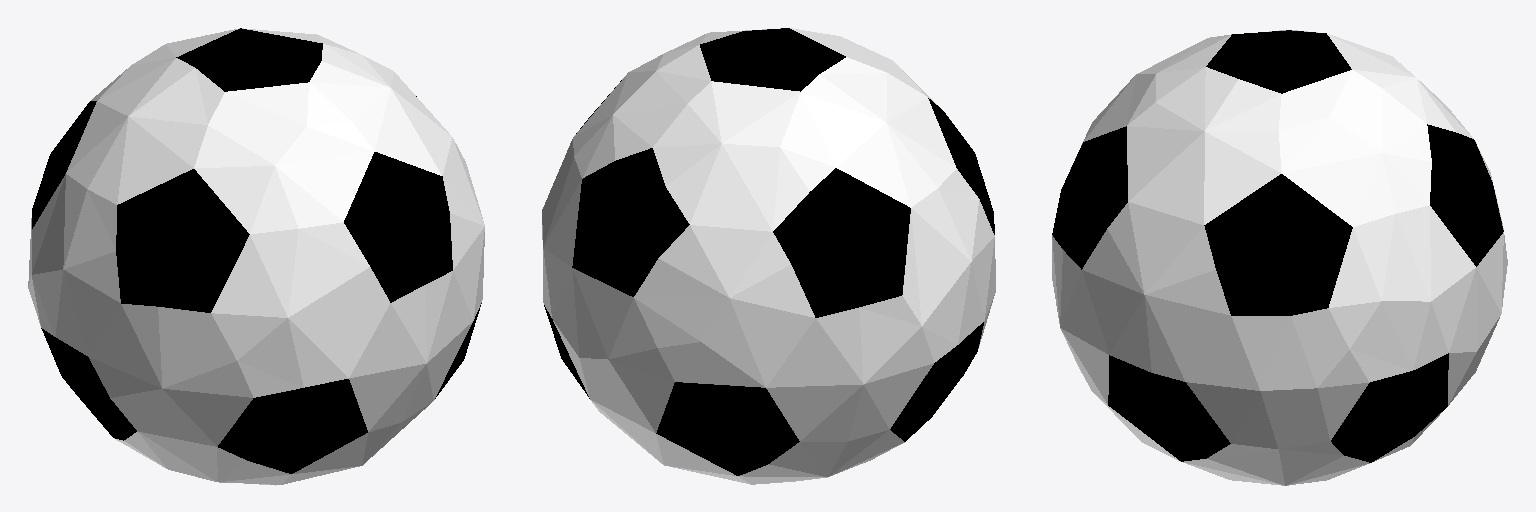
The model's file is Football.obj.
3 renders of one model, left to right at view 1: azimuth 30°, elevation 25°; view 2: azimuth 150°, elevation 25°; view 3: azimuth 270°, elevation 25°, orthographic.
Parts seen in each view (by area): view 1: Icosphere_Icosphere.001; view 2: Icosphere_Icosphere.001; view 3: Icosphere_Icosphere.001.
Boxes of the visible parts, box(x1,y1,x2,y2) form: Icosphere_Icosphere.001: box(28, 28, 484, 485); Icosphere_Icosphere.001: box(542, 28, 995, 484); Icosphere_Icosphere.001: box(1052, 30, 1507, 485).
Bounding box in the file's own units: 0.1742 × 0.1761 × 0.1736.